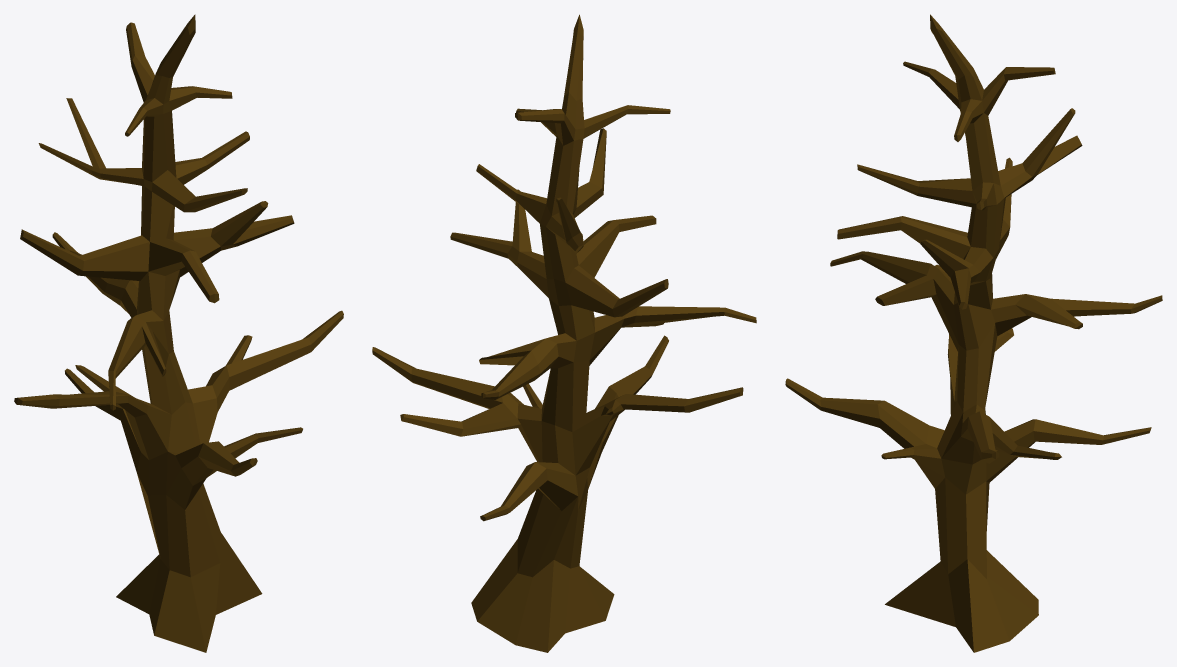
The model's file is BigTree.fbx.
3 views of the same model, side by side, from view 1: azimuth 30°, elevation 25°; view 2: azimuth 150°, elevation 25°; view 3: azimuth 270°, elevation 25° (orthographic). The views are drawn at different scales.
Visible parts, largest first — view 1: Cylinder.009; view 2: Cylinder.009; view 3: Cylinder.009.
Part boxes in pixels (box(x1,y1,x2,y2)): Cylinder.009: box(14, 14, 343, 652); Cylinder.009: box(372, 14, 756, 652); Cylinder.009: box(785, 14, 1162, 652).
Size of the model in its own units: 271 by 451 by 258.
